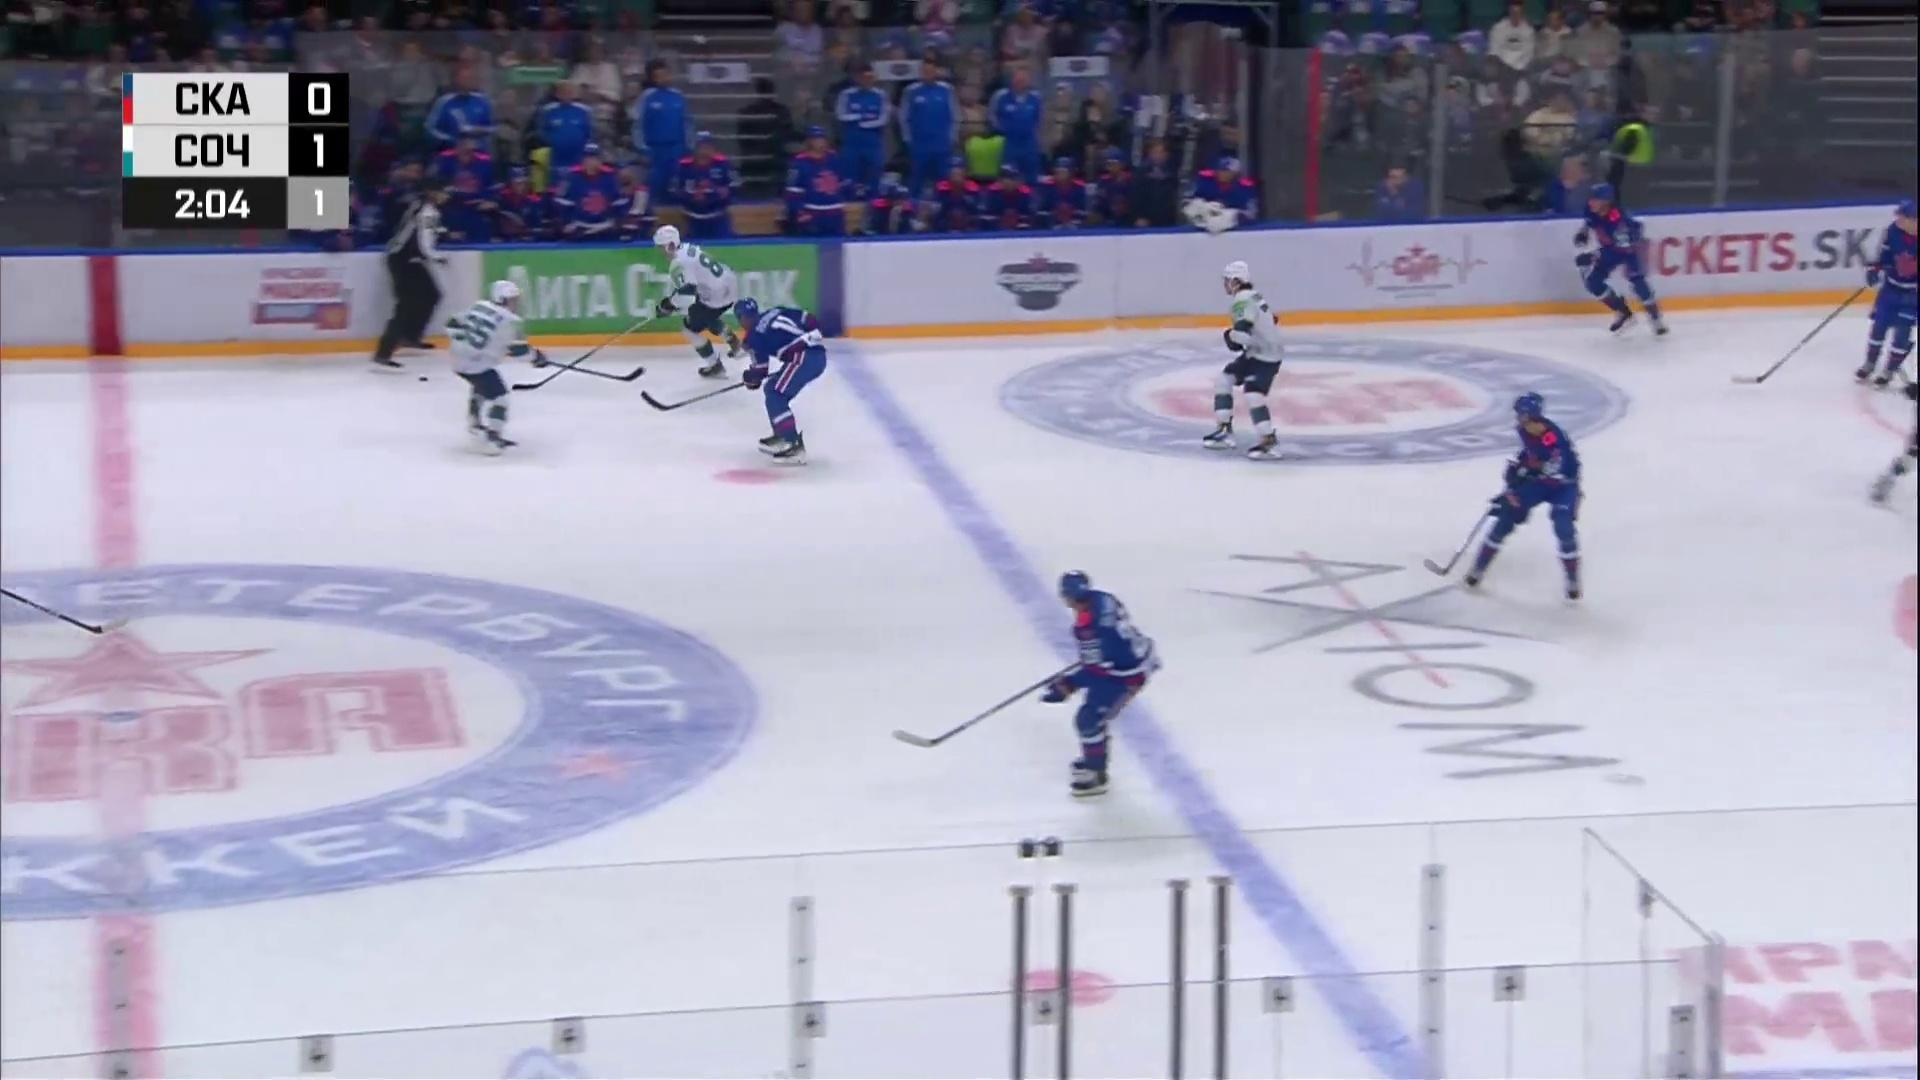ball: (418, 376, 429, 382)
